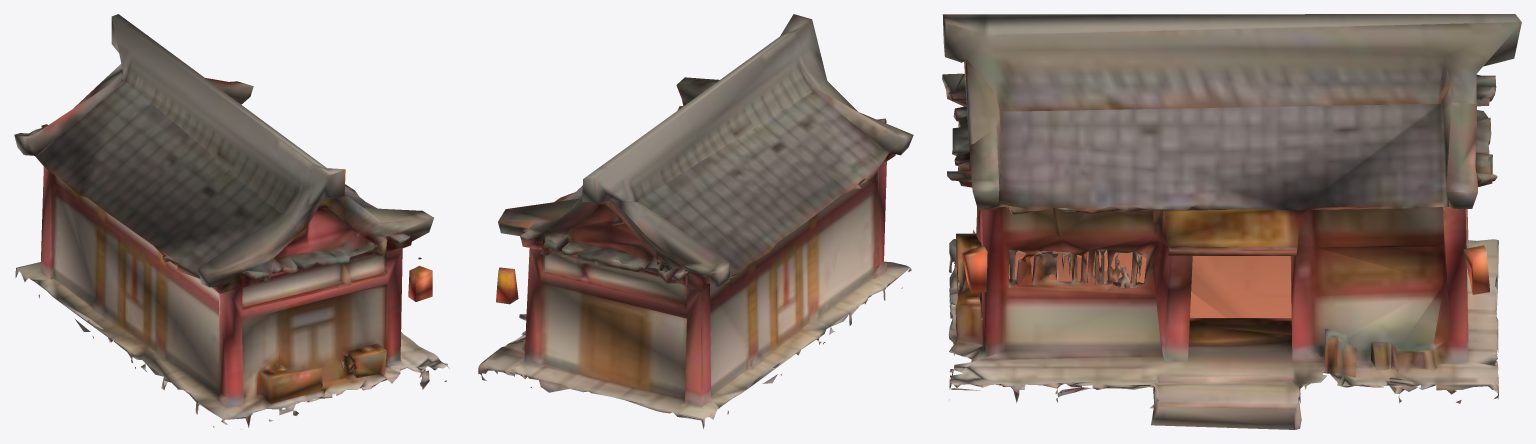
Rendered from bq_teashop.lod2.glb.
The picture shows the model from 3 angles, left to right: view 1: azimuth 30°, elevation 25°; view 2: azimuth 150°, elevation 25°; view 3: azimuth 270°, elevation 25°; orthographic projection. The views are drawn at different scales.
Size of the model in its own units: 1.41 by 1.2 by 1.98.
Materials: 1 (1 with a texture image).
